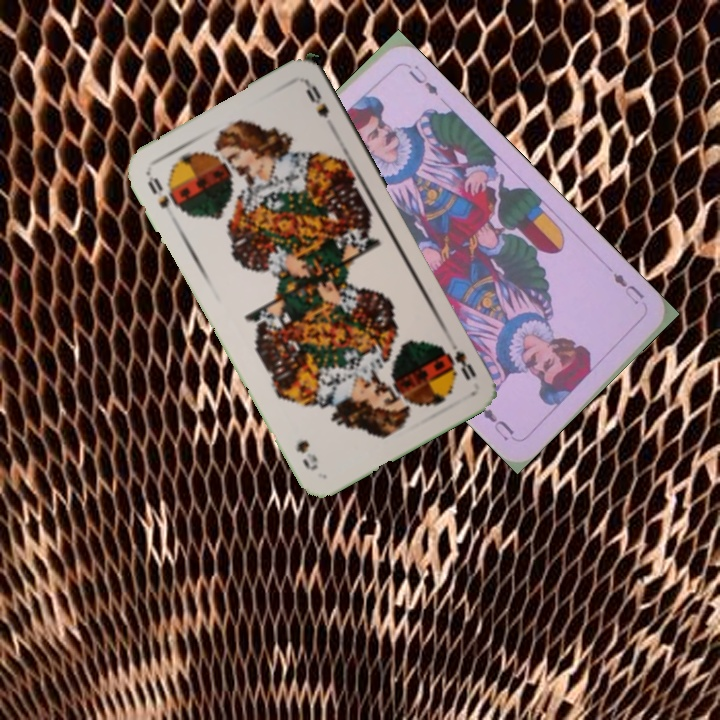EU: (609, 269, 647, 308)
SO: (443, 332, 479, 384), (143, 172, 180, 211)
